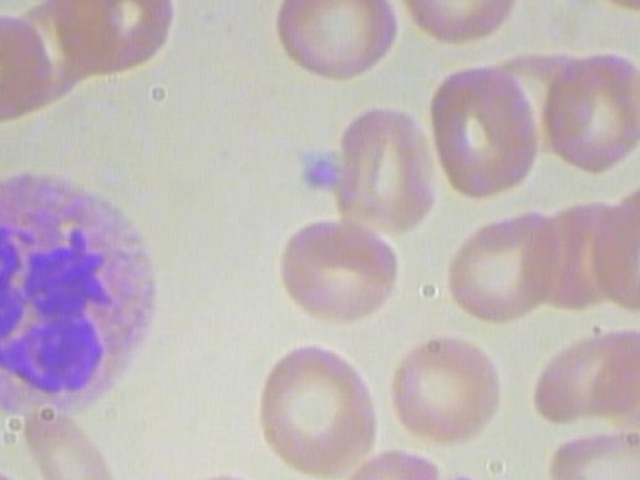Platelets: (299, 142, 344, 196)
RBC: (414, 63, 546, 199), (253, 339, 380, 480), (266, 215, 410, 335), (441, 203, 571, 326), (378, 330, 512, 448), (327, 103, 434, 236), (262, 0, 400, 92), (543, 48, 640, 176), (530, 324, 640, 432), (47, 0, 176, 82), (386, 0, 531, 54), (564, 0, 640, 15), (0, 1, 5, 139)
WBC: (0, 164, 177, 432)
